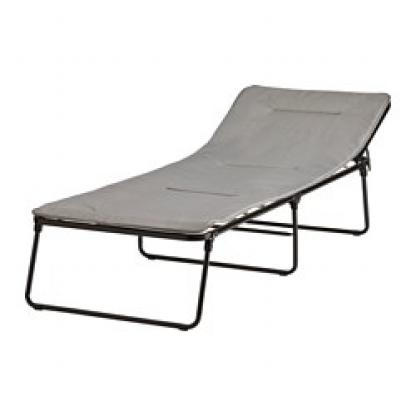Bed: (18, 72, 393, 341)
